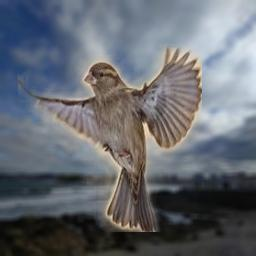Sparrow: (18, 44, 202, 232)
